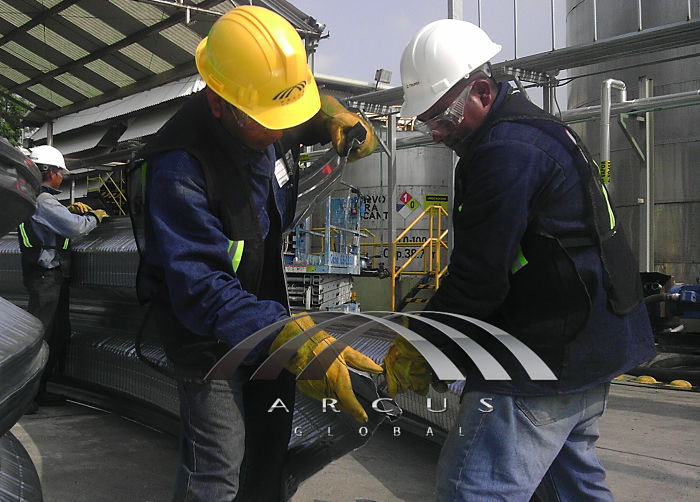casco: (195, 4, 323, 132), (398, 17, 504, 120), (28, 144, 72, 176)
